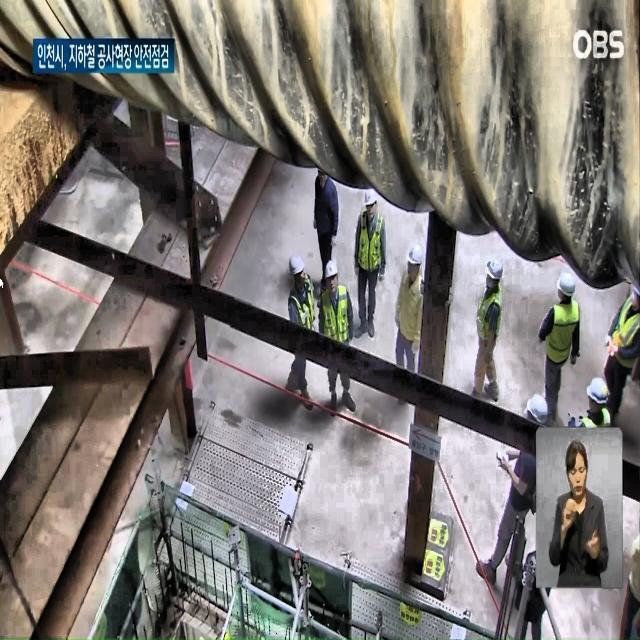safety_helmet: (587, 372, 610, 412), (525, 393, 552, 424), (555, 267, 579, 301), (484, 253, 504, 286), (405, 239, 423, 269), (289, 248, 307, 276), (322, 260, 342, 284), (364, 181, 376, 209)
safety_jacket: (318, 274, 354, 348), (609, 298, 640, 378), (548, 301, 580, 366), (288, 283, 318, 343), (358, 214, 385, 278), (474, 294, 502, 353)
